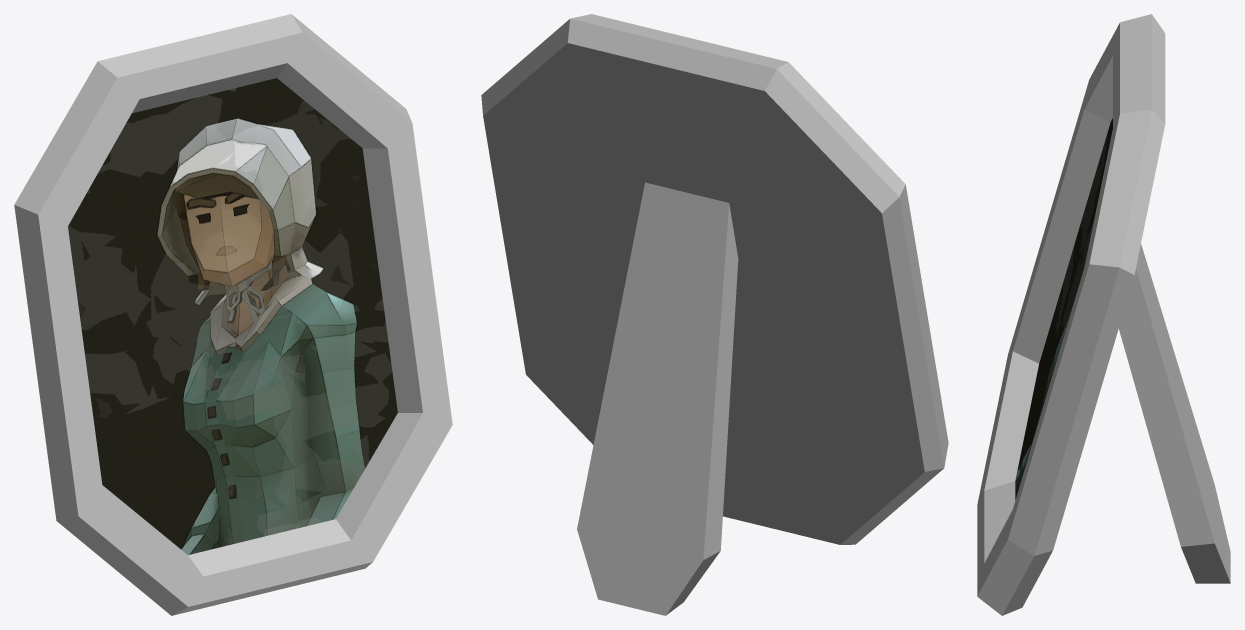
The model's file is SM_Prop_Picture_Frame_03.fbx.
3 views of the same model, side by side, from view 1: azimuth 30°, elevation 25°; view 2: azimuth 150°, elevation 25°; view 3: azimuth 270°, elevation 25° (orthographic). The views are drawn at different scales.
Visible parts, largest first — view 1: SM_Prop_Picture_Frame_03; view 2: SM_Prop_Picture_Frame_03; view 3: SM_Prop_Picture_Frame_03.
Part boxes in pixels (x1,y1,x2,y2): SM_Prop_Picture_Frame_03: (14, 14, 452, 615); SM_Prop_Picture_Frame_03: (481, 14, 948, 615); SM_Prop_Picture_Frame_03: (977, 14, 1230, 615).
Bounding box in the file's own units: 29.51 × 35.97 × 16.33.
